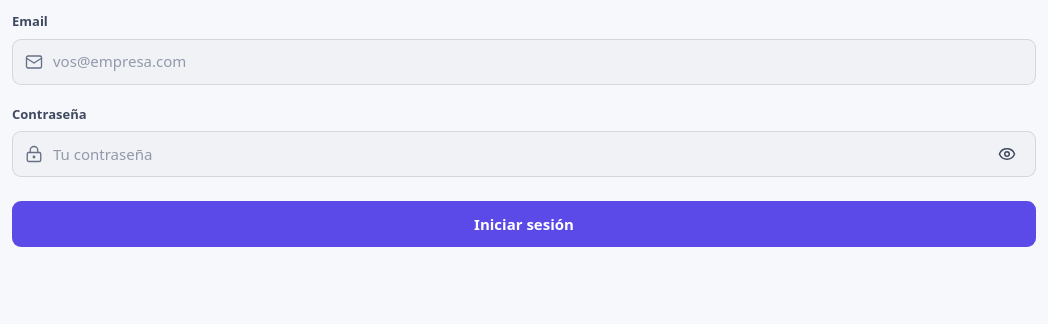
Test: LoginForm › posts credentials and shows only the safe server error
Type "agustin@example.com" into the field labelled "Email".
click(538, 62); type("agustin@example.com")  # box top-left (53, 40), bottom-right (1023, 84)
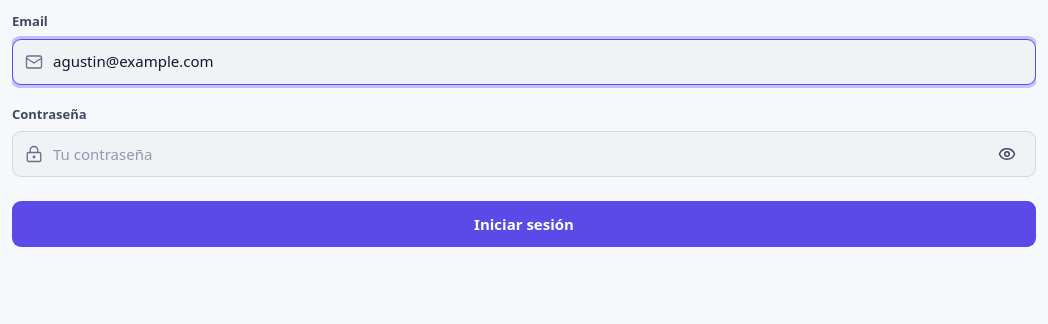
Type "valid-password" into the password field labelled "Contraseña".
click(517, 154); type("valid-password")  # box top-left (53, 132), bottom-right (981, 176)
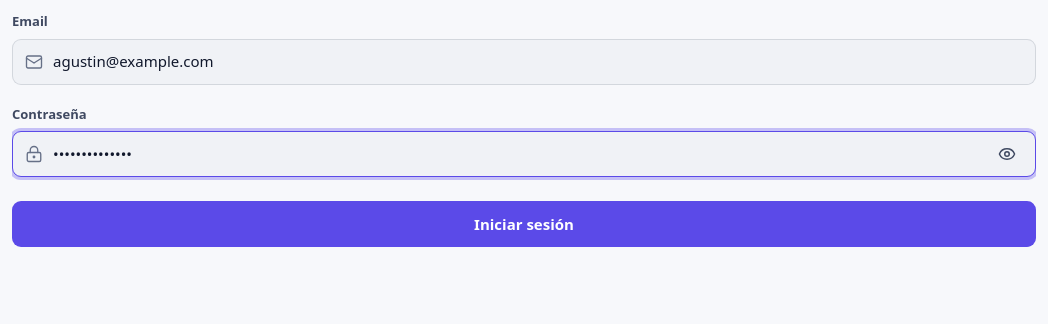
Click the button "Iniciar sesión".
click(524, 224)  # box top-left (12, 201), bottom-right (1036, 247)
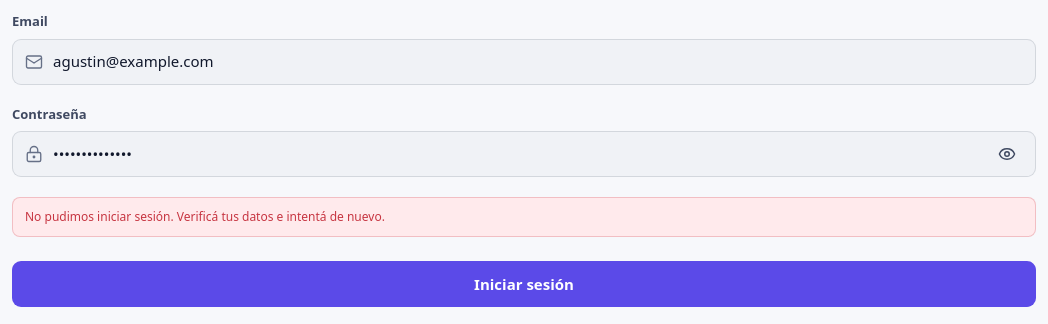
expect the message reads "No pudimos iniciar sesión. Verificá tus datos e intentá de nuevo.": met, box top-left (25, 208), bottom-right (385, 225)
